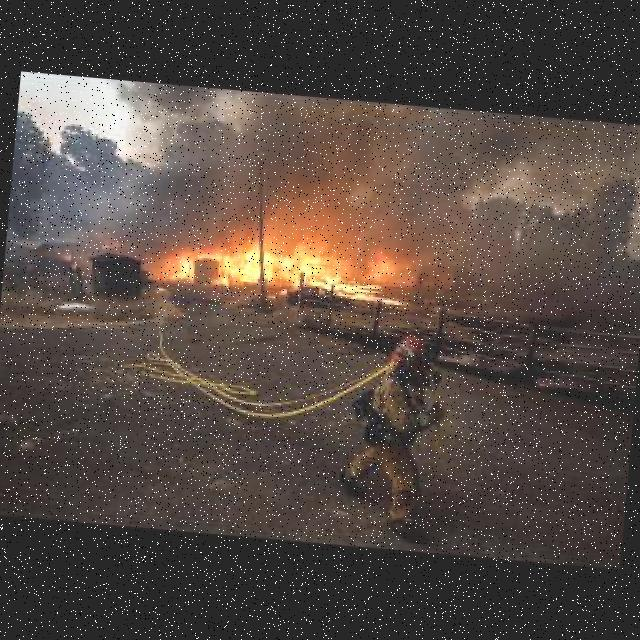Fire: (142, 205, 429, 319)
Smoke: (85, 75, 640, 271)
